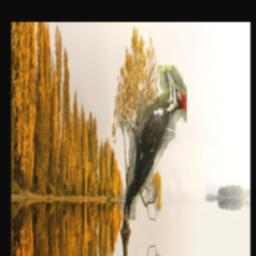Woodpecker: (116, 66, 187, 221)
